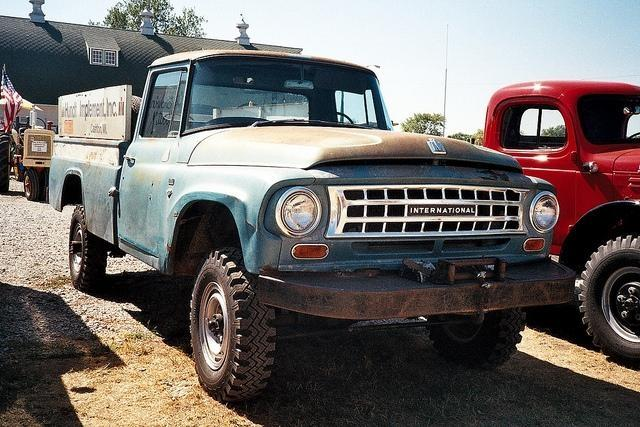truck: (51, 49, 556, 401), (484, 79, 640, 364)
